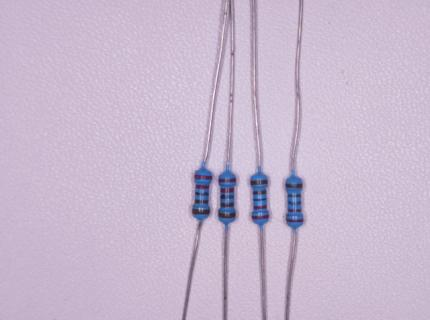Black band: (195, 191, 209, 196), (220, 194, 234, 199), (288, 200, 302, 205), (253, 198, 267, 202)
Brown band: (192, 208, 210, 215), (218, 212, 236, 219), (286, 183, 303, 189), (250, 180, 269, 185), (221, 202, 234, 208), (253, 190, 267, 195), (194, 199, 208, 204), (288, 194, 302, 198)
Red band: (194, 174, 212, 180), (195, 184, 210, 190), (286, 218, 304, 223), (218, 178, 236, 183), (252, 215, 269, 220), (220, 188, 234, 193), (253, 205, 267, 210), (288, 209, 302, 212)
